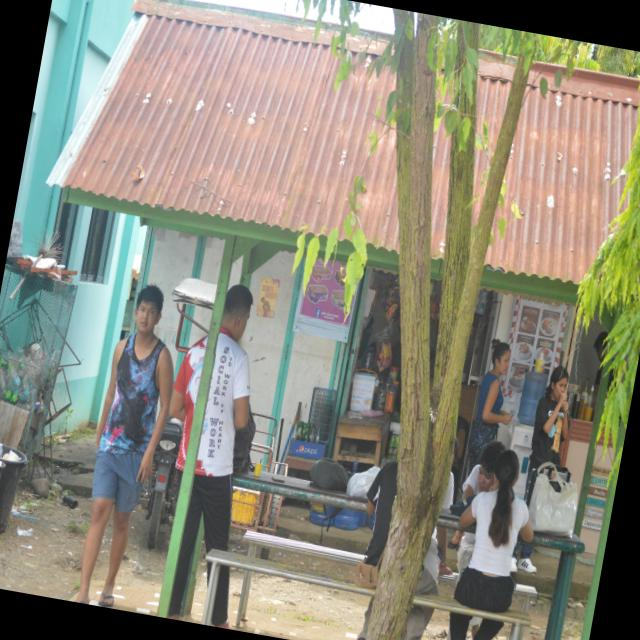person: (76, 285, 173, 607), (169, 285, 253, 619), (455, 451, 533, 613), (468, 340, 511, 472), (527, 367, 569, 489), (365, 462, 397, 566), (463, 442, 505, 499)
